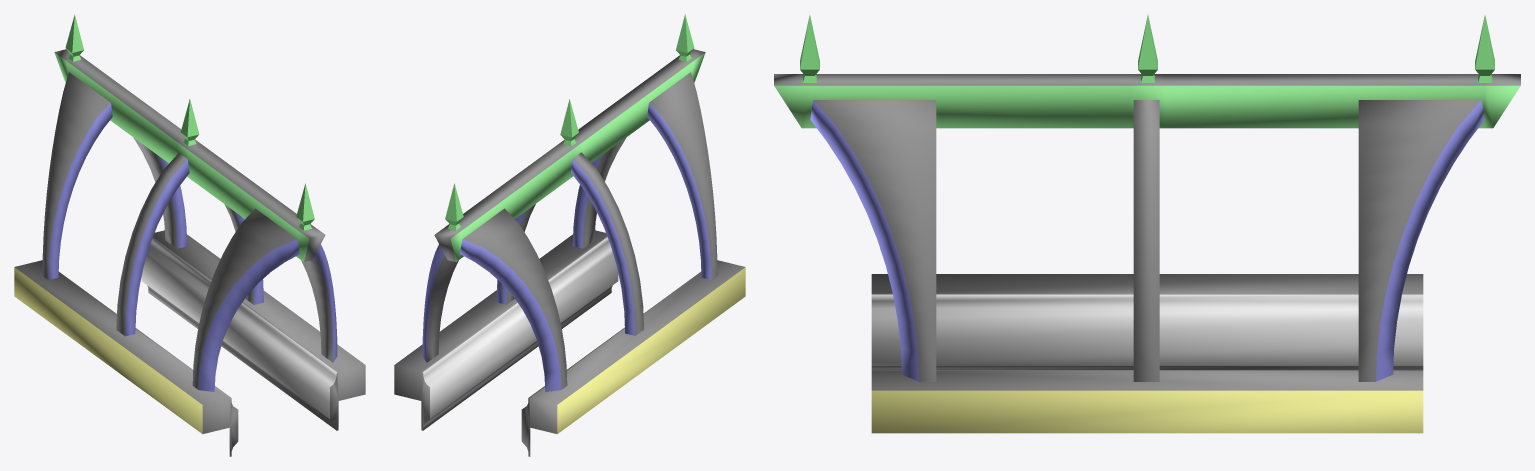
File: topdeco_arch.gltf
3 renders of one model, left to right at view 1: azimuth 30°, elevation 25°; view 2: azimuth 150°, elevation 25°; view 3: azimuth 270°, elevation 25°, orthographic. The views are drawn at different scales.
Visible parts, largest first — view 1: topdeco_arch; view 2: topdeco_arch; view 3: topdeco_arch.
Part boxes in pixels (x1,y1,x2,y2): topdeco_arch: (14, 14, 365, 456); topdeco_arch: (394, 14, 745, 456); topdeco_arch: (774, 14, 1520, 433).
Size of the model in its own units: 3.84 by 6.21 by 10.4.
